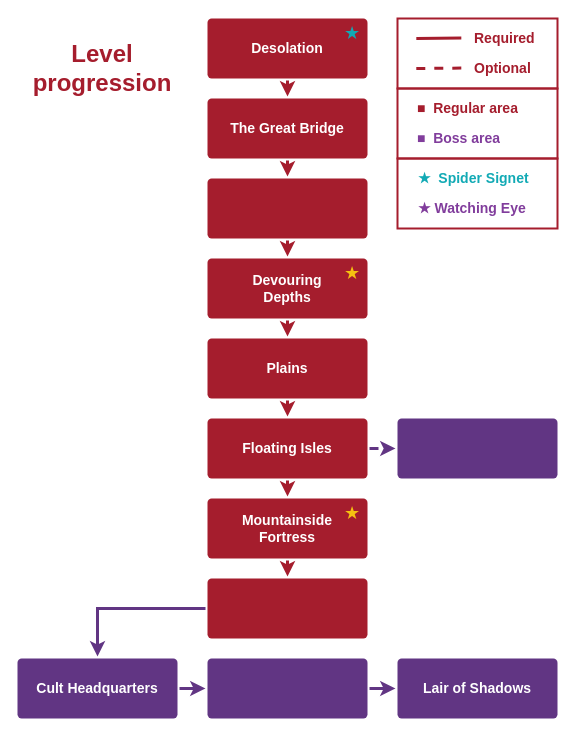
The diagram is 575 pixels wide and 735 high, and some of its shapes have lost their labels. Each missing label, with the centre of its shape:
"Deeper Realm" belongs at point (287, 688).
"Descent" belongs at point (287, 208).
"Library" belongs at point (287, 608).
"Treasury" belongs at point (477, 448).
